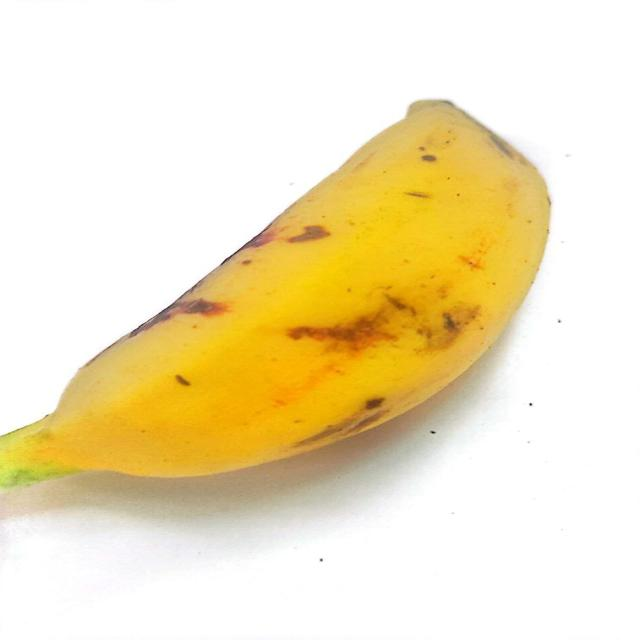fresh_banana: (1, 100, 541, 498)
